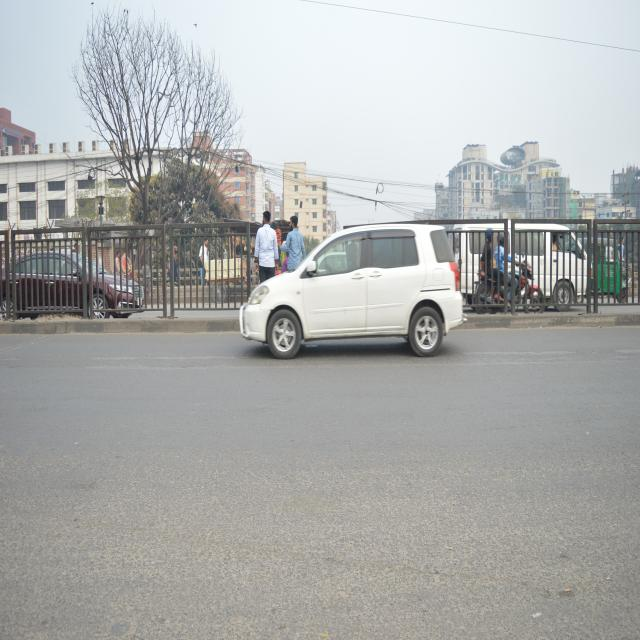car: (1, 242, 151, 332)
microbus: (237, 198, 468, 370), (449, 212, 594, 315)
motorbike: (470, 268, 552, 326)
